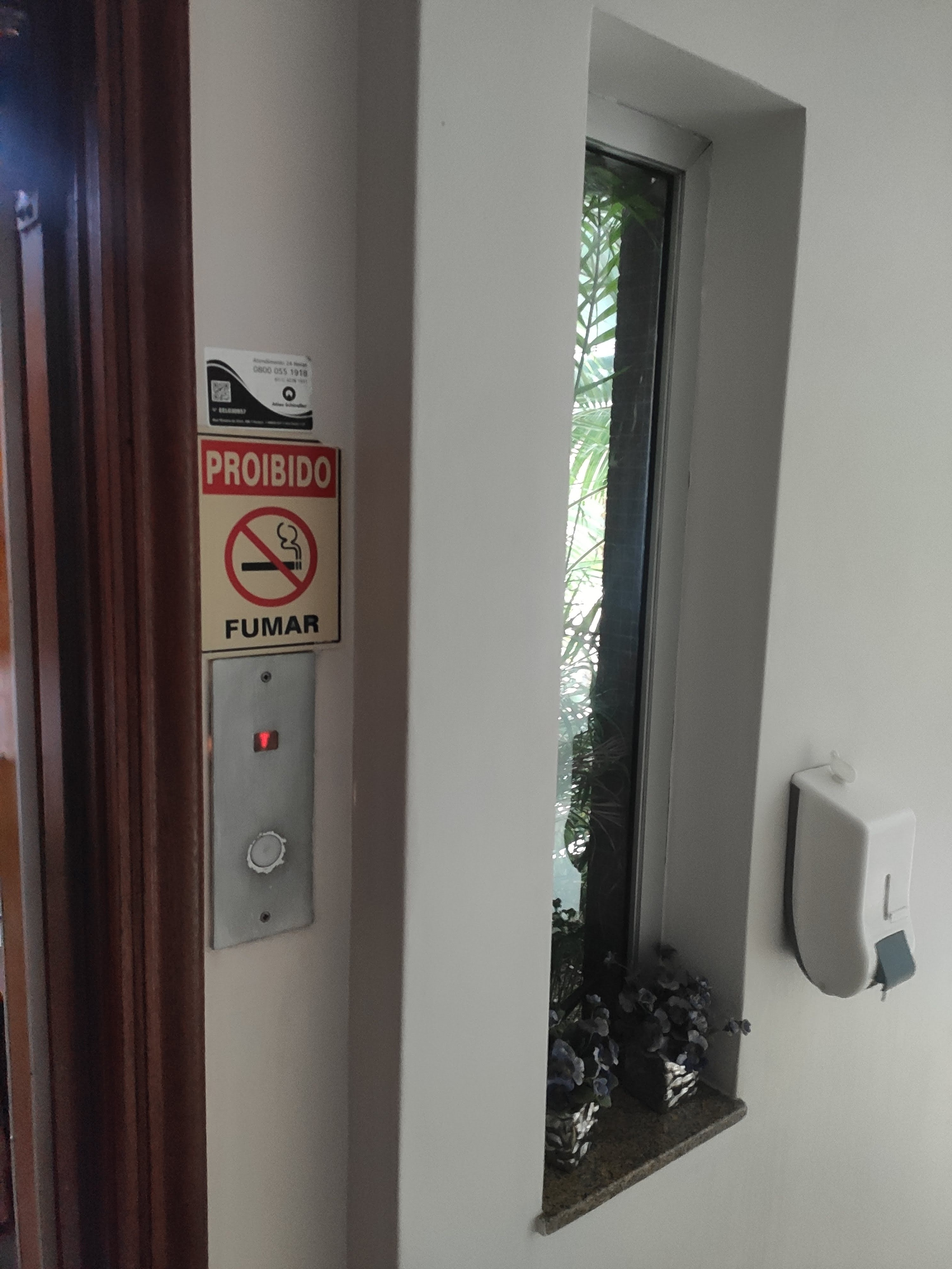QR-CODE: (213, 382, 229, 400)
